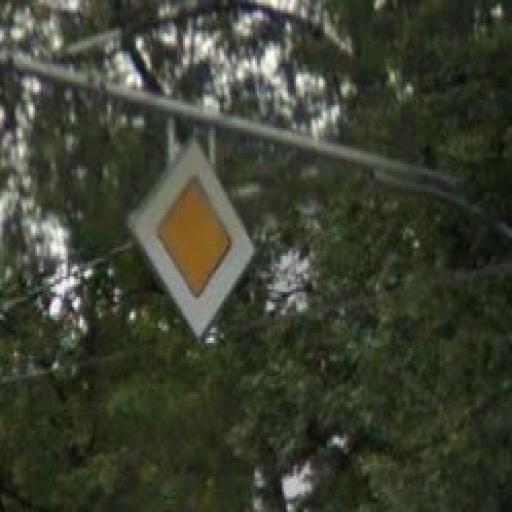traffic_sign: (129, 137, 260, 342)
